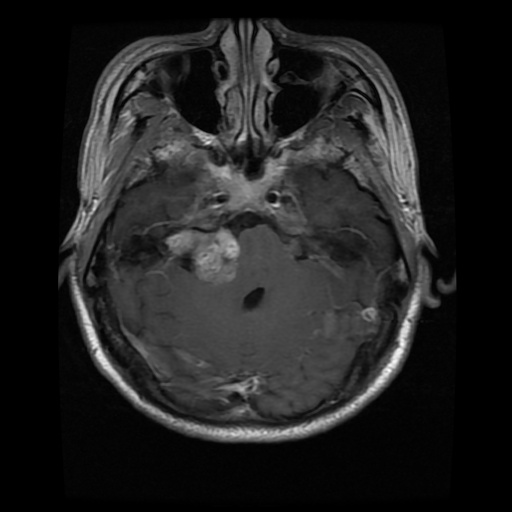meningioma: (162, 227, 241, 282)
